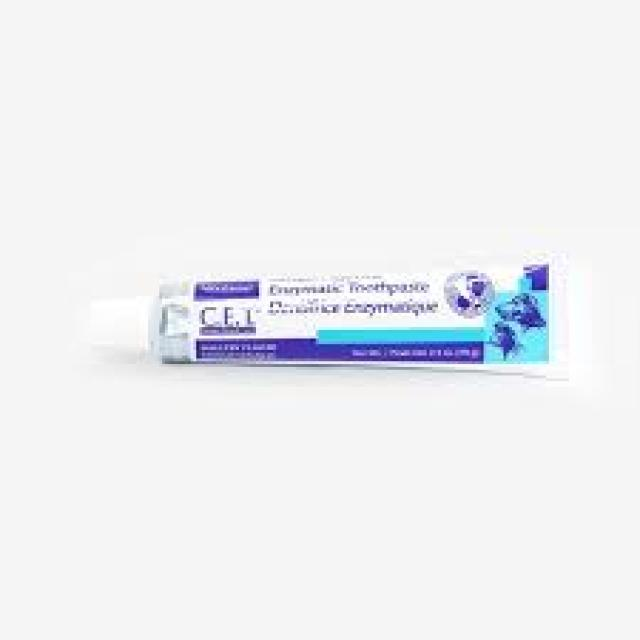toothpaste: (67, 258, 602, 398)
